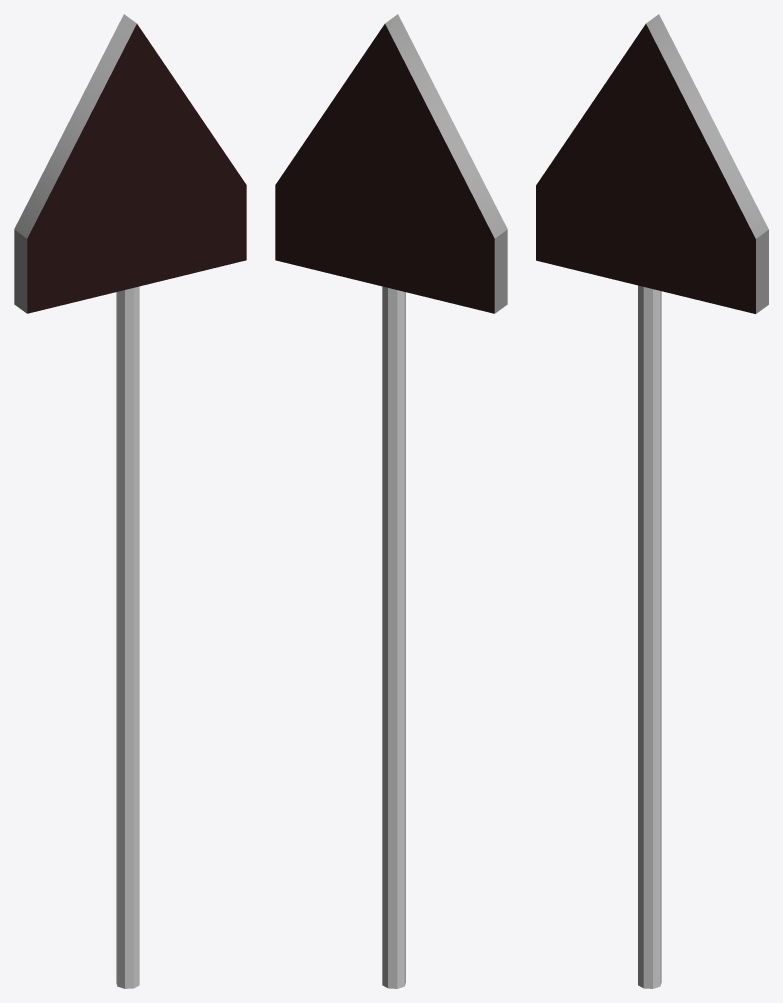
Rendered from Panneau1.fbx.
The picture shows the model from 3 angles, left to right: view 1: azimuth 30°, elevation 25°; view 2: azimuth 150°, elevation 25°; view 3: azimuth 330°, elevation 25°; orthographic projection.
Parts seen in each view (by area): view 1: pCube2, pCylinder5; view 2: pCube2, pCylinder5; view 3: pCube2, pCylinder5.
Part boxes in pixels (x1=…): pCube2: x1=14, y1=14, x2=246, y2=313; pCylinder5: x1=116, y1=286, x2=139, y2=988; pCube2: x1=275, y1=14, x2=507, y2=313; pCylinder5: x1=382, y1=286, x2=405, y2=988; pCube2: x1=536, y1=14, x2=768, y2=313; pCylinder5: x1=638, y1=285, x2=661, y2=988.
Size of the model in its own units: 4.02 by 16.88 by 0.4129.
